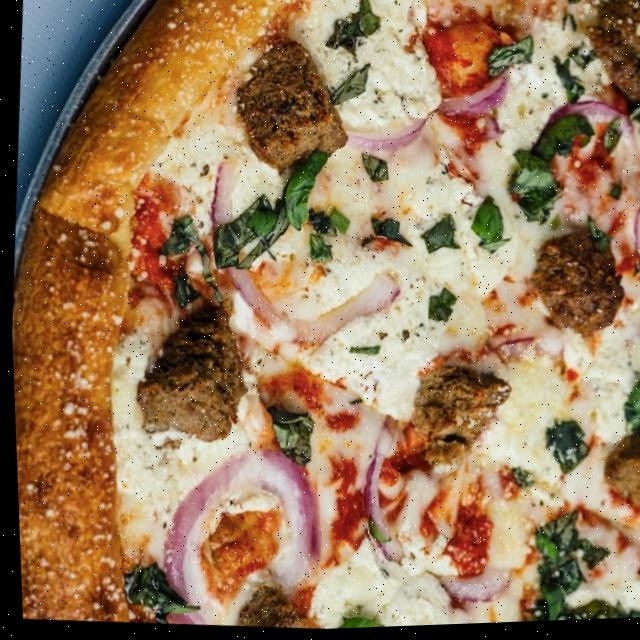basil: (496, 107, 617, 239), (517, 503, 614, 625), (293, 189, 356, 273), (209, 199, 278, 274), (280, 151, 327, 234), (484, 27, 542, 86), (463, 202, 515, 265), (537, 419, 590, 480), (416, 202, 462, 269), (572, 582, 640, 624), (327, 64, 369, 113), (322, 599, 385, 631), (363, 213, 405, 252), (614, 376, 640, 432), (354, 151, 391, 188), (621, 85, 640, 151)
pizza: (0, 0, 640, 640)
